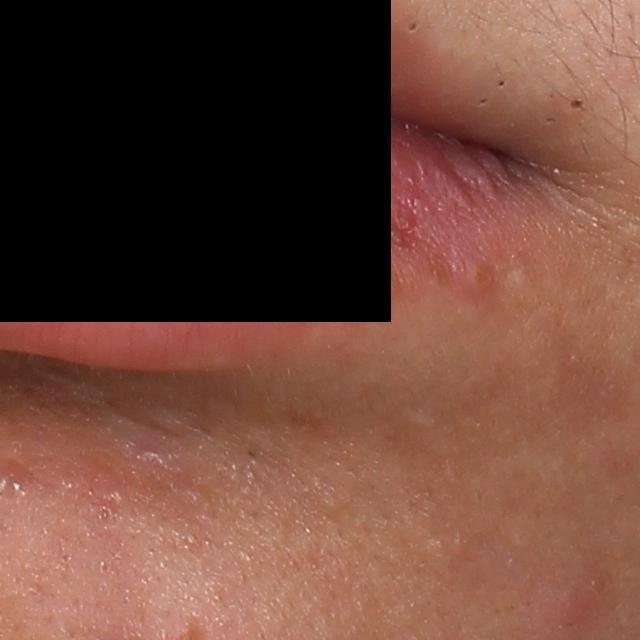comedo: (496, 76, 507, 90), (477, 97, 490, 108)
papule: (545, 578, 593, 632)
